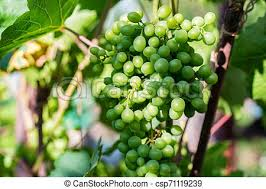grapes: (100, 18, 214, 169)
